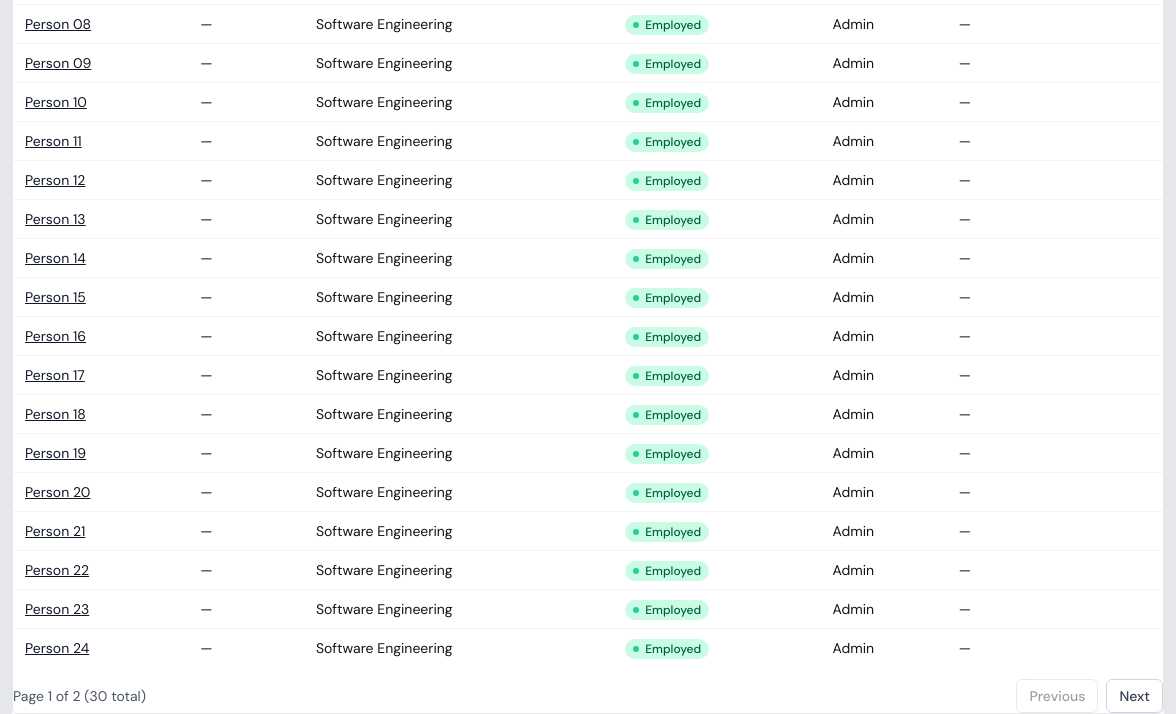
Test: PeoplePage › paginates the list and navigates between pages
This screenshot has width=1176, height=714.
(page scrolled)
Expected: the text "Page 1 of 2 (30 total)" is shown, [13,686,146,706]
Expected: the link "Person 25" is not shown
Click the button "Next".
click(1135, 696)  # box [1106,679,1163,713]
(page scrolled)
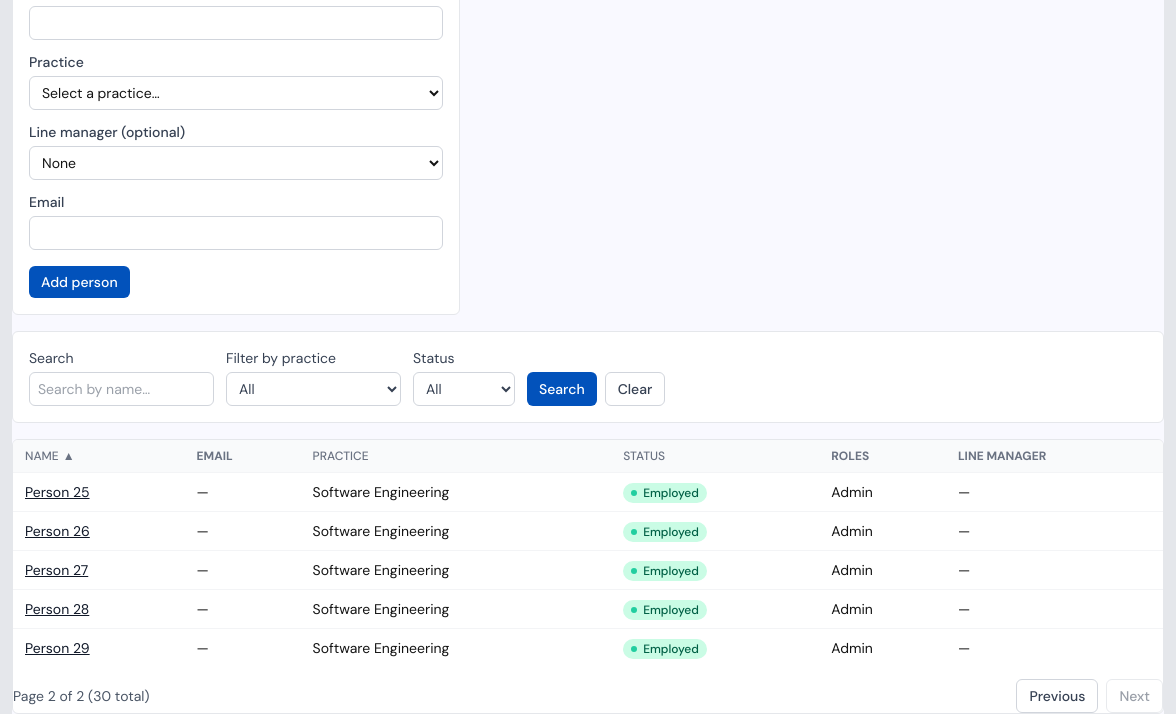
Expected: the link "Person 25" is shown, [25,483,90,501]
Expected: the number of links "Person 25" is 5, [25,483,90,501]; [25,522,90,540]; [25,561,88,579]; [25,600,89,618]; [25,639,90,657]
